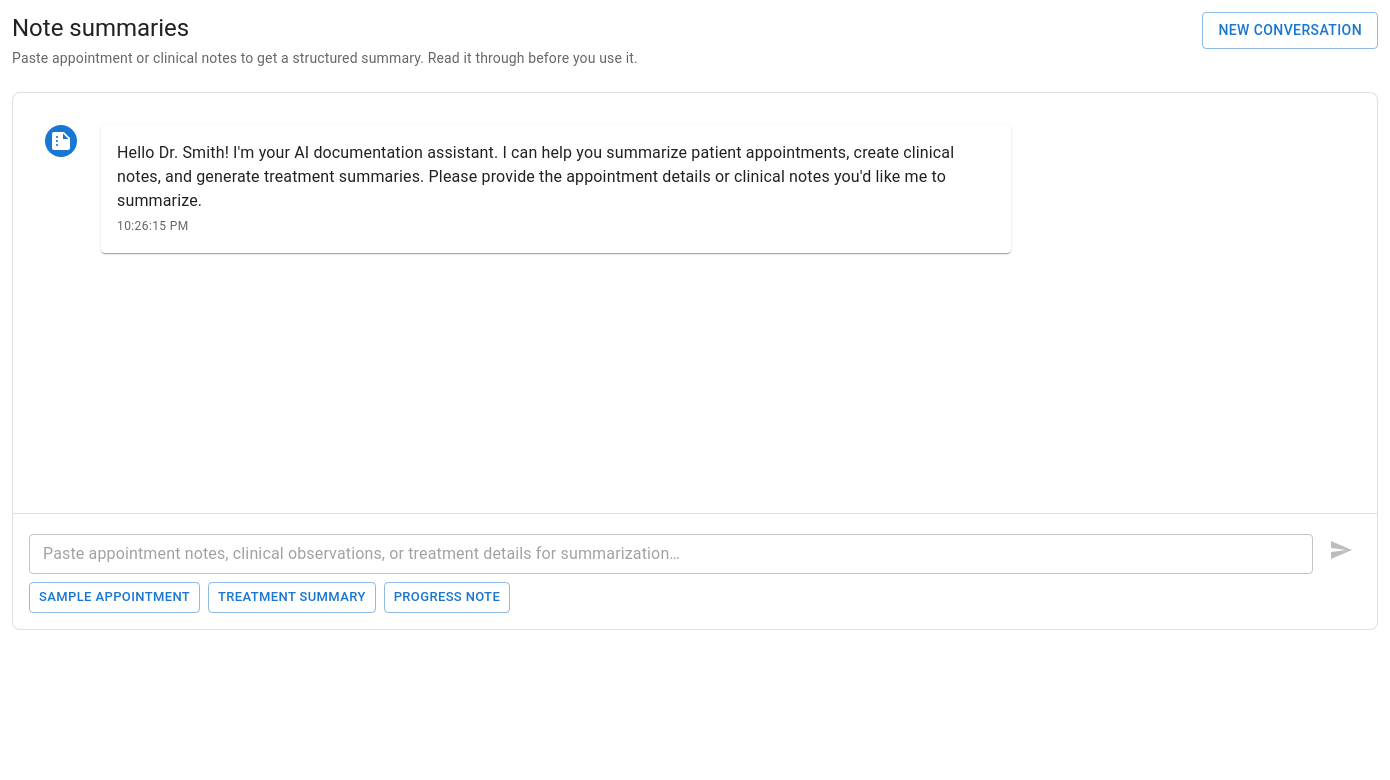
AISummarizePage › streaming indicator is valid phrasing content inside the summary paragraph
Type "Notes" into the text box with placeholder "Paste appointment notes" at (671, 554), box 43,542 -> 1299,565
Then press Enter
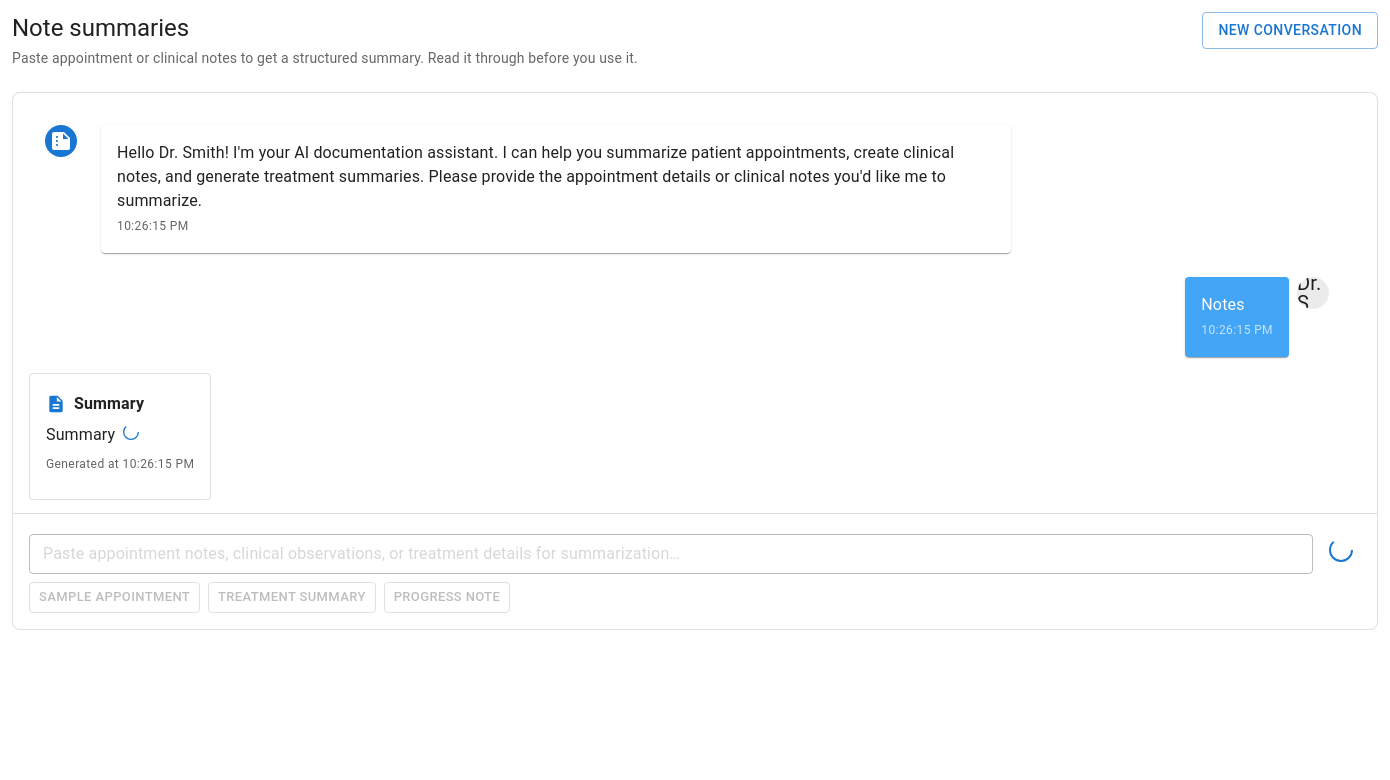
expect the 1st progress indicator is shown: met, box 123,424 -> 139,440
